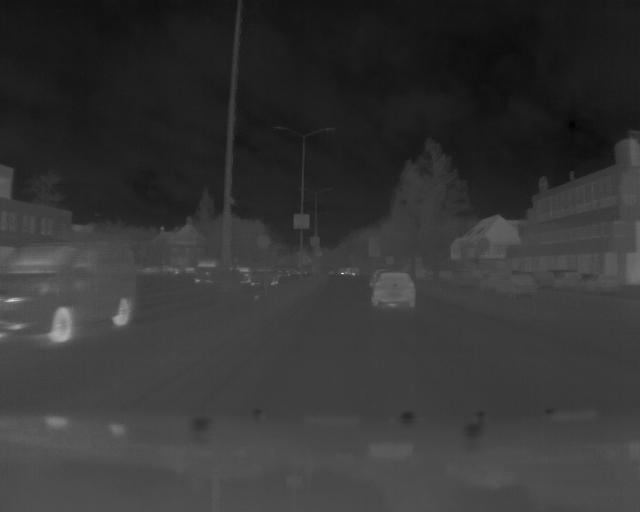car: (1, 242, 137, 346), (373, 272, 418, 314)
